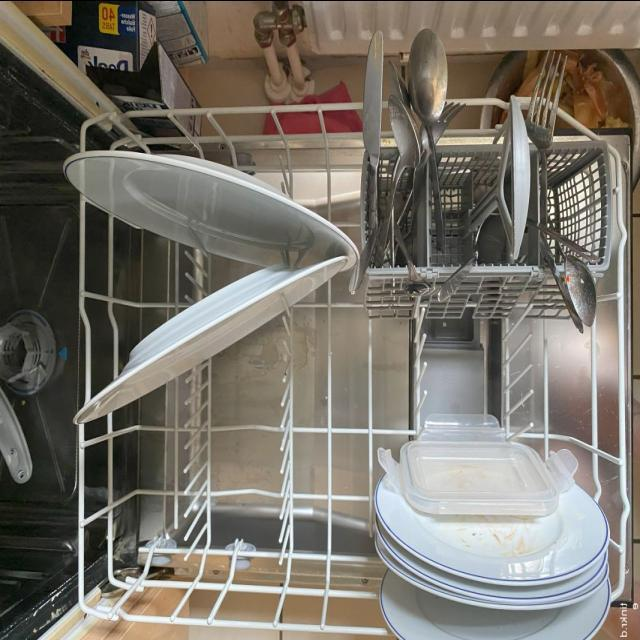clutery_bin: (371, 88, 614, 290)
empty_slot: (135, 401, 352, 615), (376, 308, 606, 424)
